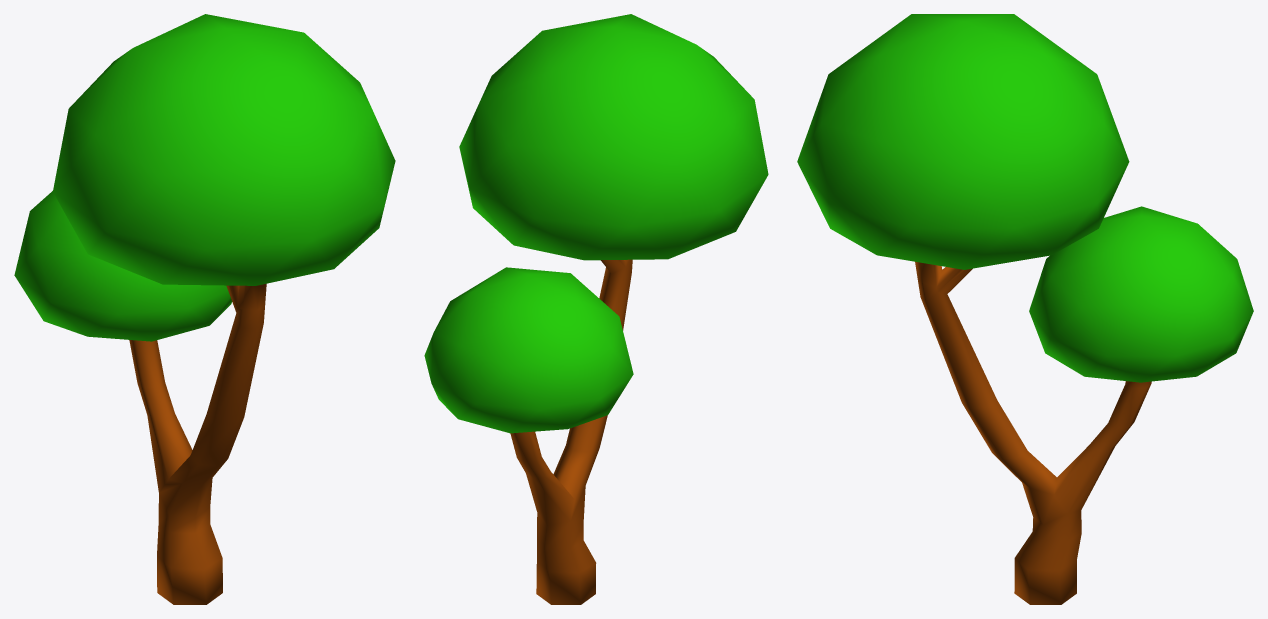
Rendered from tree-one.glb.
3 renders of one model, left to right at view 1: azimuth 30°, elevation 25°; view 2: azimuth 150°, elevation 25°; view 3: azimuth 270°, elevation 25°, orthographic. The views are drawn at different scales.
Parts seen in each view (by area): view 1: tree-one; view 2: tree-one; view 3: tree-one.
Boxes of the visible parts, x1=… form: tree-one: x1=14, y1=14, x2=395, y2=604; tree-one: x1=424, y1=14, x2=768, y2=604; tree-one: x1=797, y1=14, x2=1253, y2=604.
Size of the model in its own units: 1.9 by 3.77 by 2.75.
1 material, 1 textured.
